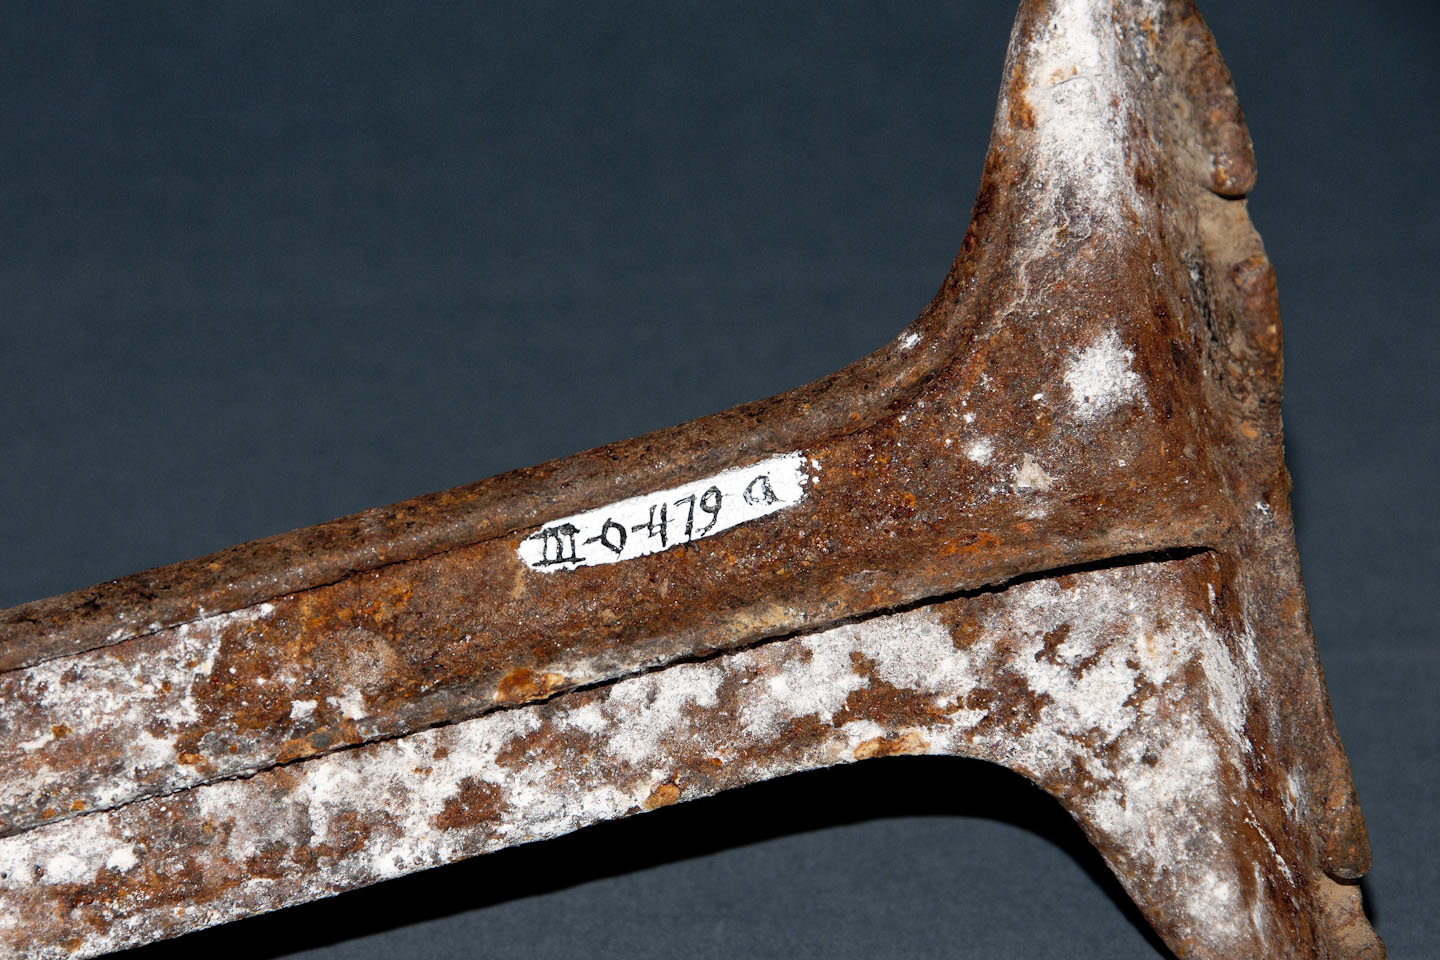rust: (911, 351, 1220, 535), (390, 506, 692, 649), (1134, 52, 1255, 321), (1212, 690, 1366, 899)
